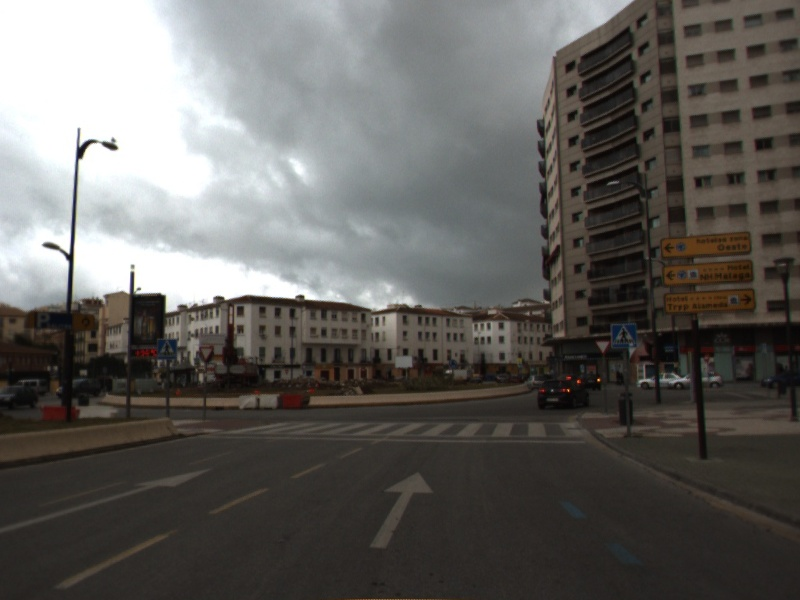STRAIGHT: (1, 464, 216, 540), (366, 469, 436, 551)
